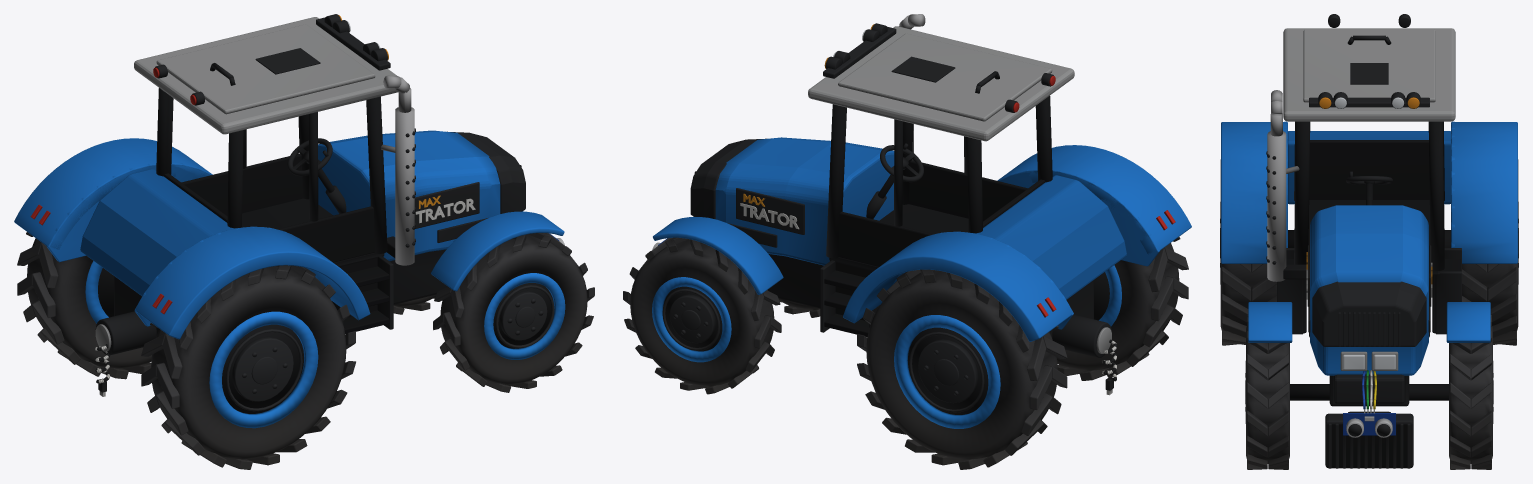
The model's file is max-tractor-cabine.glb.
The picture shows the model from 3 angles, left to right: view 1: azimuth 30°, elevation 25°; view 2: azimuth 150°, elevation 25°; view 3: azimuth 270°, elevation 25°; orthographic projection. The views are drawn at different scales.
Parts seen in each view (by area): view 1: rig-body--max-acabamento-unificado, rig-wheel-1-1--max-roda-unificada, rig-wheel-0-1--max-roda-unificada, rig-wheel-1--1--max-roda-unificada, rig-hitch--max-acabamento-unificado, rig-volante--max-acabamento-unificado; view 2: rig-body--max-acabamento-unificado, rig-wheel-1--1--max-roda-unificada, rig-wheel-0--1--max-roda-unificada, rig-wheel-1-1--max-roda-unificada, rig-hitch--max-acabamento-unificado, rig-volante--max-acabamento-unificado; view 3: rig-body--max-acabamento-unificado, rig-wheel-0-1--max-roda-unificada, rig-wheel-0--1--max-roda-unificada, rig-wheel-1--1--max-roda-unificada, rig-wheel-1-1--max-roda-unificada, rig-volante--max-acabamento-unificado.
Boxes of the visible parts, x1,y1,x2,y2 form: rig-body--max-acabamento-unificado: [14, 14, 564, 339]; rig-wheel-1-1--max-roda-unificada: [141, 265, 355, 469]; rig-wheel-0-1--max-roda-unificada: [433, 233, 594, 392]; rig-wheel-1--1--max-roda-unificada: [17, 232, 151, 379]; rig-hitch--max-acabamento-unificado: [95, 311, 156, 396]; rig-volante--max-acabamento-unificado: [287, 138, 332, 176]; rig-body--max-acabamento-unificado: [652, 14, 1191, 341]; rig-wheel-1--1--max-roda-unificada: [857, 269, 1067, 469]; rig-wheel-0--1--max-roda-unificada: [623, 237, 781, 394]; rig-wheel-1-1--max-roda-unificada: [1056, 237, 1188, 380]; rig-hitch--max-acabamento-unificado: [1052, 314, 1116, 395]; rig-volante--max-acabamento-unificado: [880, 143, 923, 182]; rig-body--max-acabamento-unificado: [1221, 14, 1517, 468]; rig-wheel-0-1--max-roda-unificada: [1245, 315, 1289, 469]; rig-wheel-0--1--max-roda-unificada: [1449, 315, 1493, 469]; rig-wheel-1--1--max-roda-unificada: [1462, 159, 1518, 345]; rig-wheel-1-1--max-roda-unificada: [1220, 159, 1276, 345]; rig-volante--max-acabamento-unificado: [1346, 171, 1392, 184].
Size of the model in its own units: 4.5 by 3.12 by 2.64.
